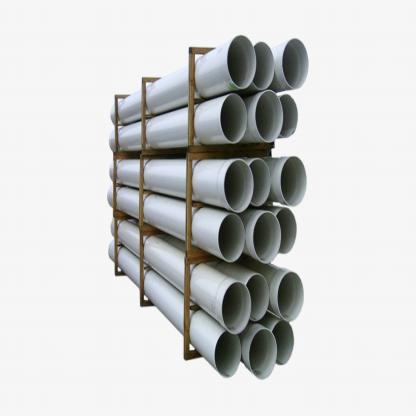PVC: (107, 33, 311, 379)
